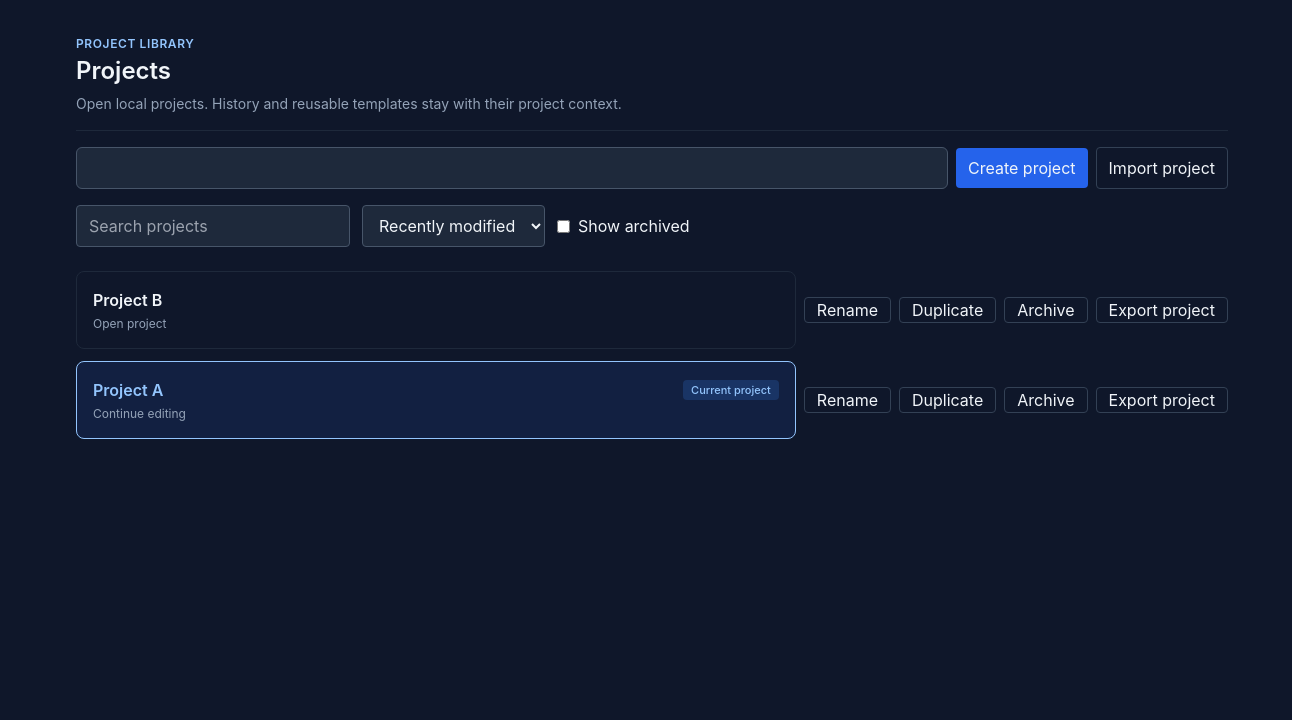
it: ProjectsPage › displays continue editing for current project and navigates without reloading
Click the button "Project A Current project Continue editing": point(128, 390) [76,361,796,439]
(page scrolled)
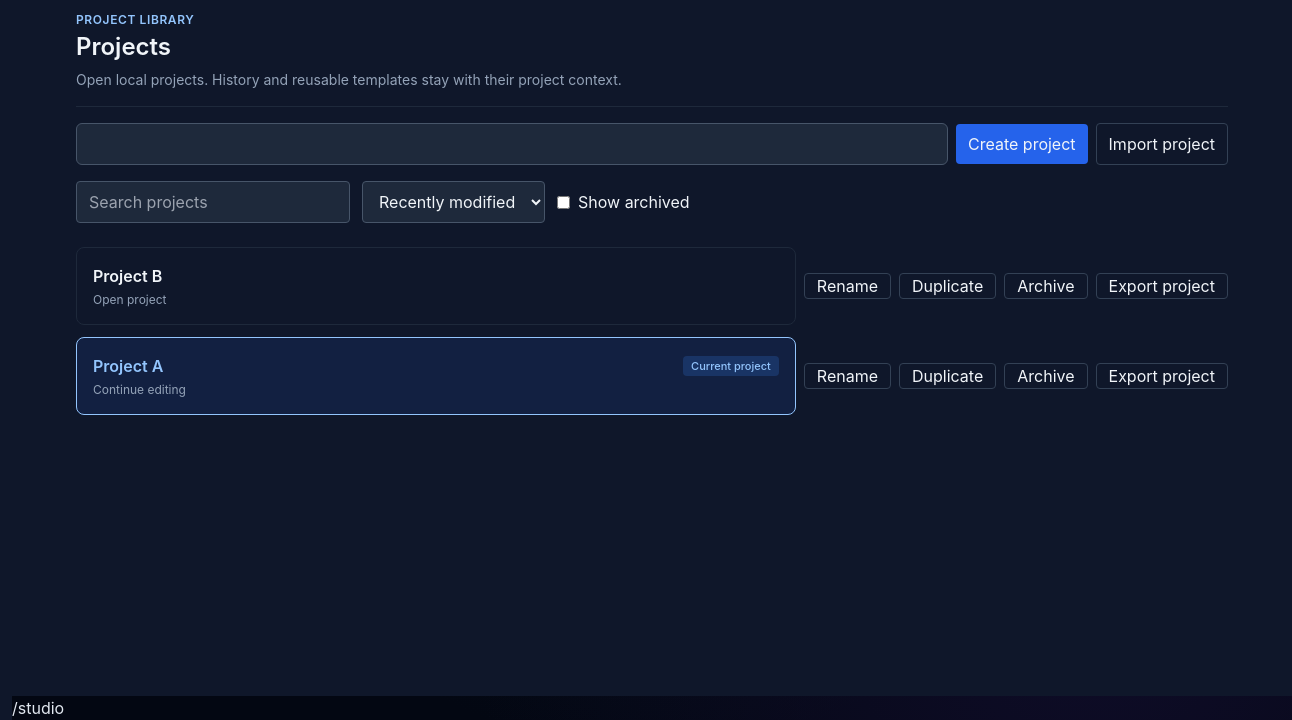
Expected: the text with test id "current-location" reads "/studio", [12,698,64,718]
